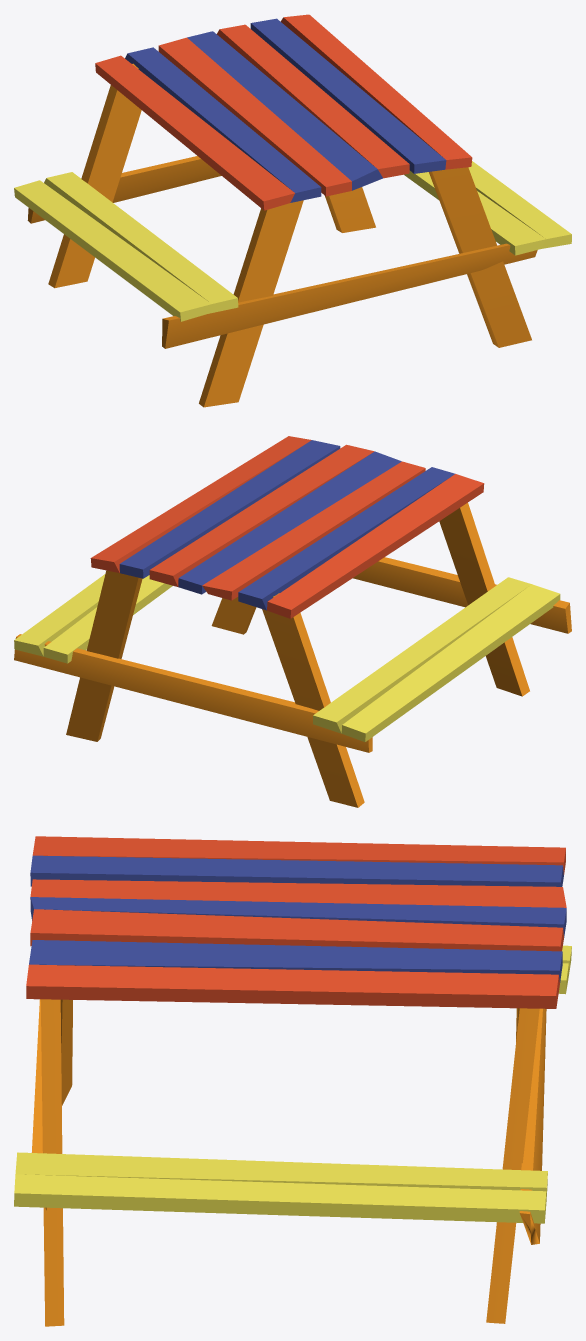
The model's file is Table_Picnic.fbx.
3 views of the same model, one above another, from view 1: azimuth 30°, elevation 25°; view 2: azimuth 150°, elevation 25°; view 3: azimuth 270°, elevation 25° (orthographic). The views are drawn at different scales.
Parts seen in each view (by area): view 1: polySurface144.012; view 2: polySurface144.012; view 3: polySurface144.012.
Boxes of the visible parts, box(x1,y1,x2,y2) form: polySurface144.012: box(14, 14, 571, 407); polySurface144.012: box(14, 436, 571, 807); polySurface144.012: box(14, 836, 571, 1326).
Size of the model in its own units: 454 by 228 by 373.
